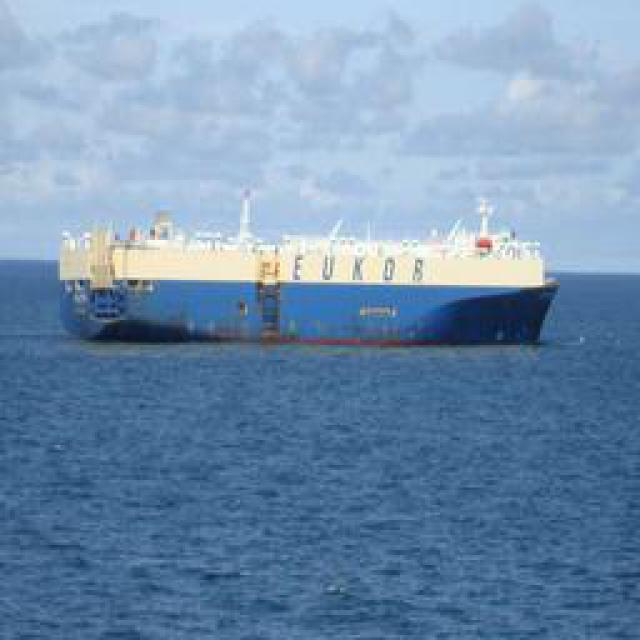Ship: (50, 216, 558, 346)
